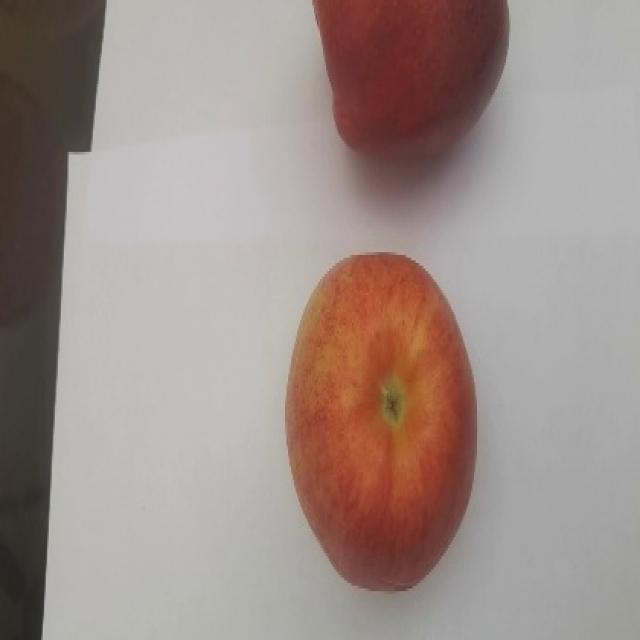Apple: (284, 250, 477, 592), (310, 0, 510, 163)
